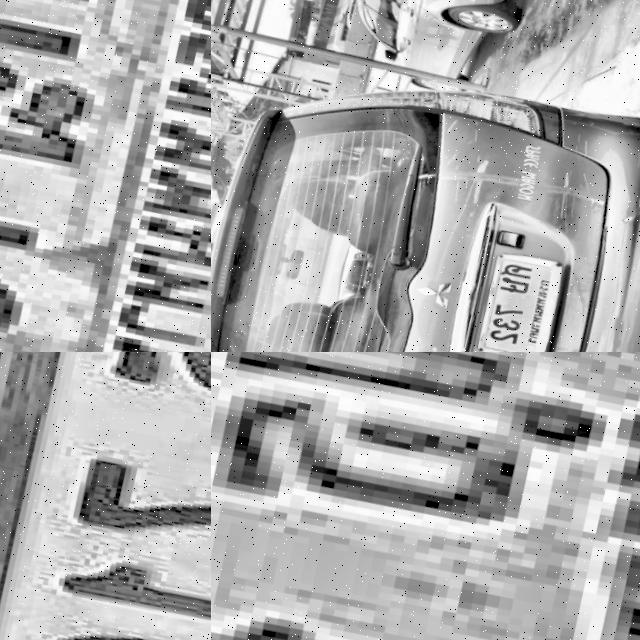license-plate: (211, 352, 640, 640), (0, 0, 211, 352), (0, 352, 211, 640), (466, 244, 575, 352)
